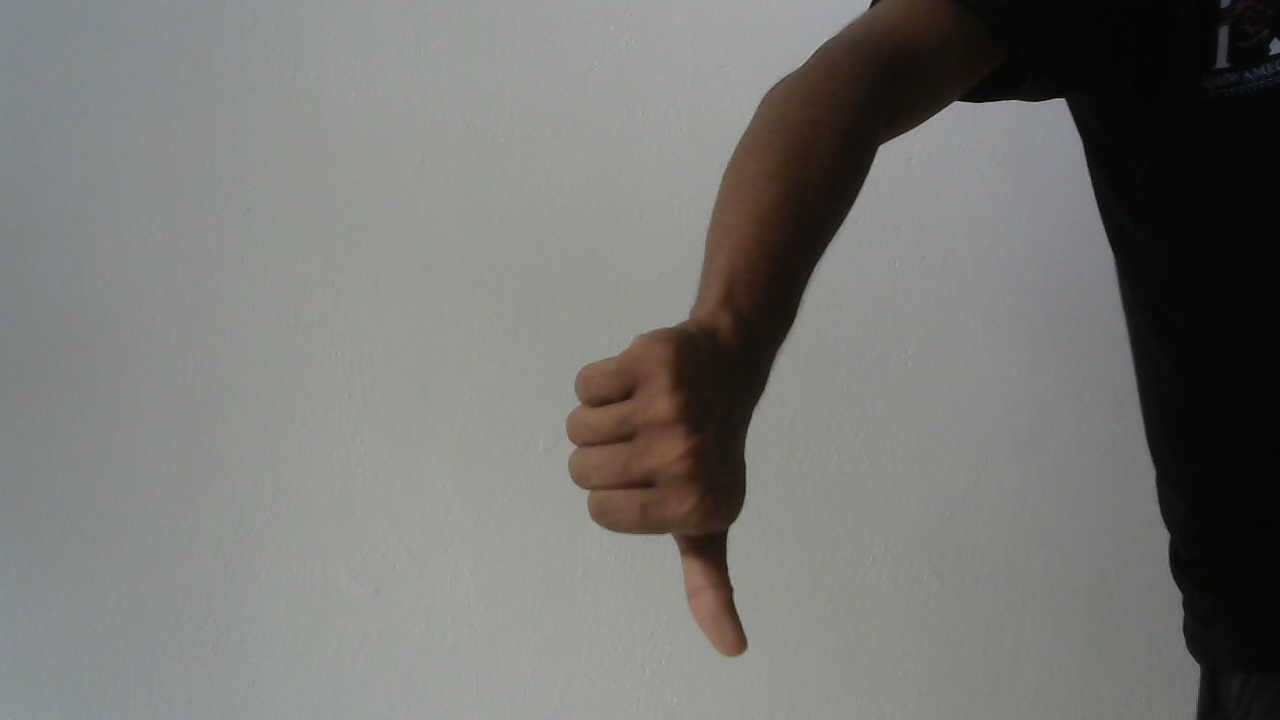thumbsdown: (549, 310, 810, 671)
